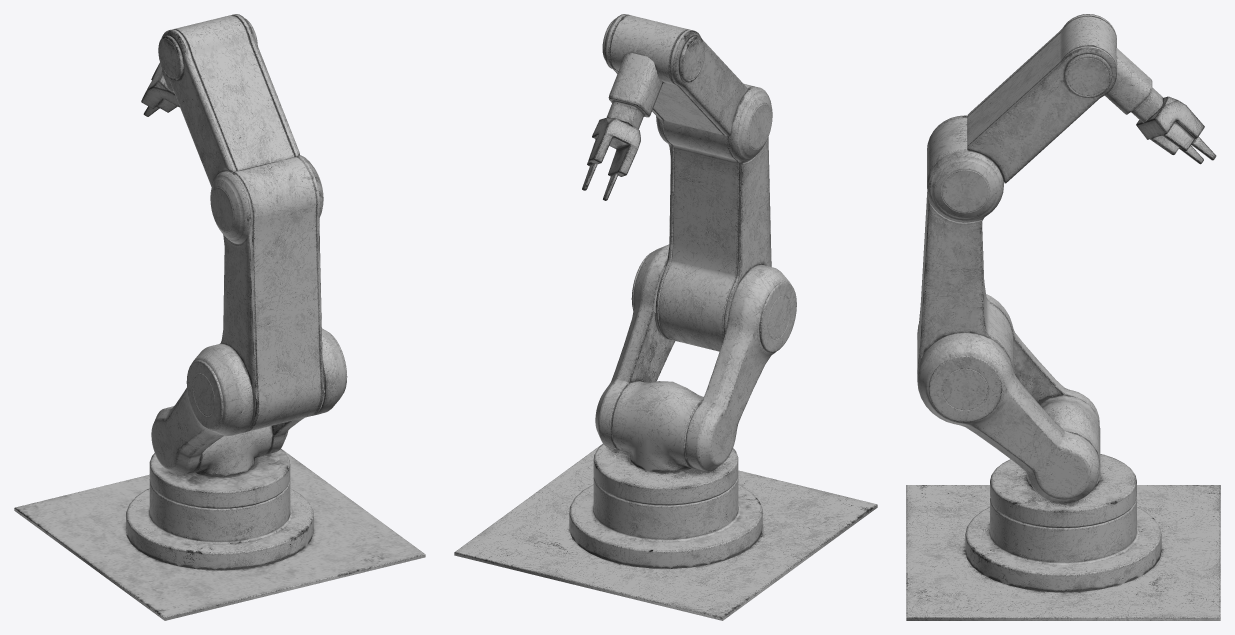
File: robotArm_geo.fbx
3 renders of one model, left to right at view 1: azimuth 30°, elevation 25°; view 2: azimuth 150°, elevation 25°; view 3: azimuth 270°, elevation 25°, orthographic. The views are drawn at different scales.
Parts seen in each view (by area): view 1: robotArm_geo; view 2: robotArm_geo; view 3: robotArm_geo.
Boxes of the visible parts, x1,y1,x2,y2 form: robotArm_geo: [14, 14, 425, 620]; robotArm_geo: [454, 14, 877, 620]; robotArm_geo: [906, 14, 1220, 620].
Bounding box in the file's own units: 80 × 147 × 80.
